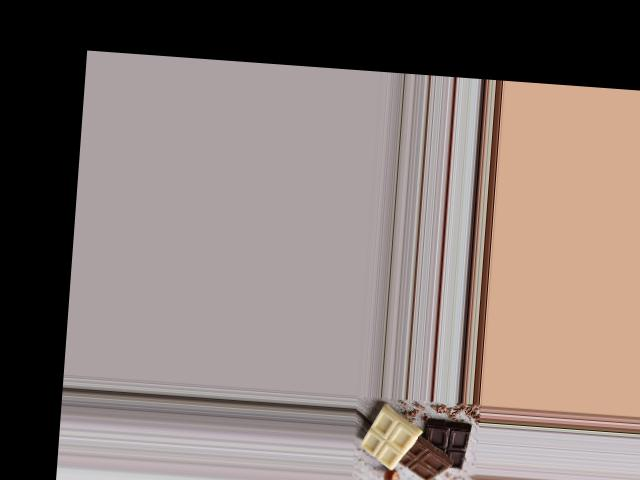chocolate: (358, 408, 477, 480)
